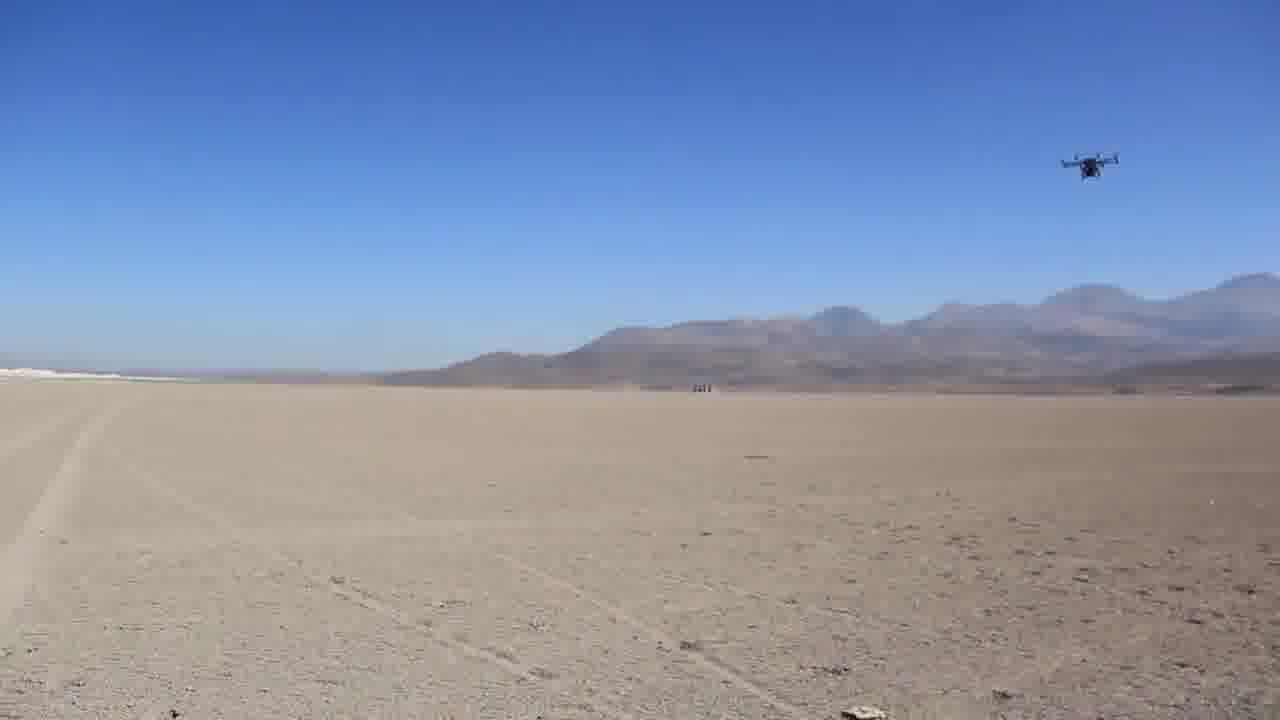Drone: (1051, 144, 1129, 189)
